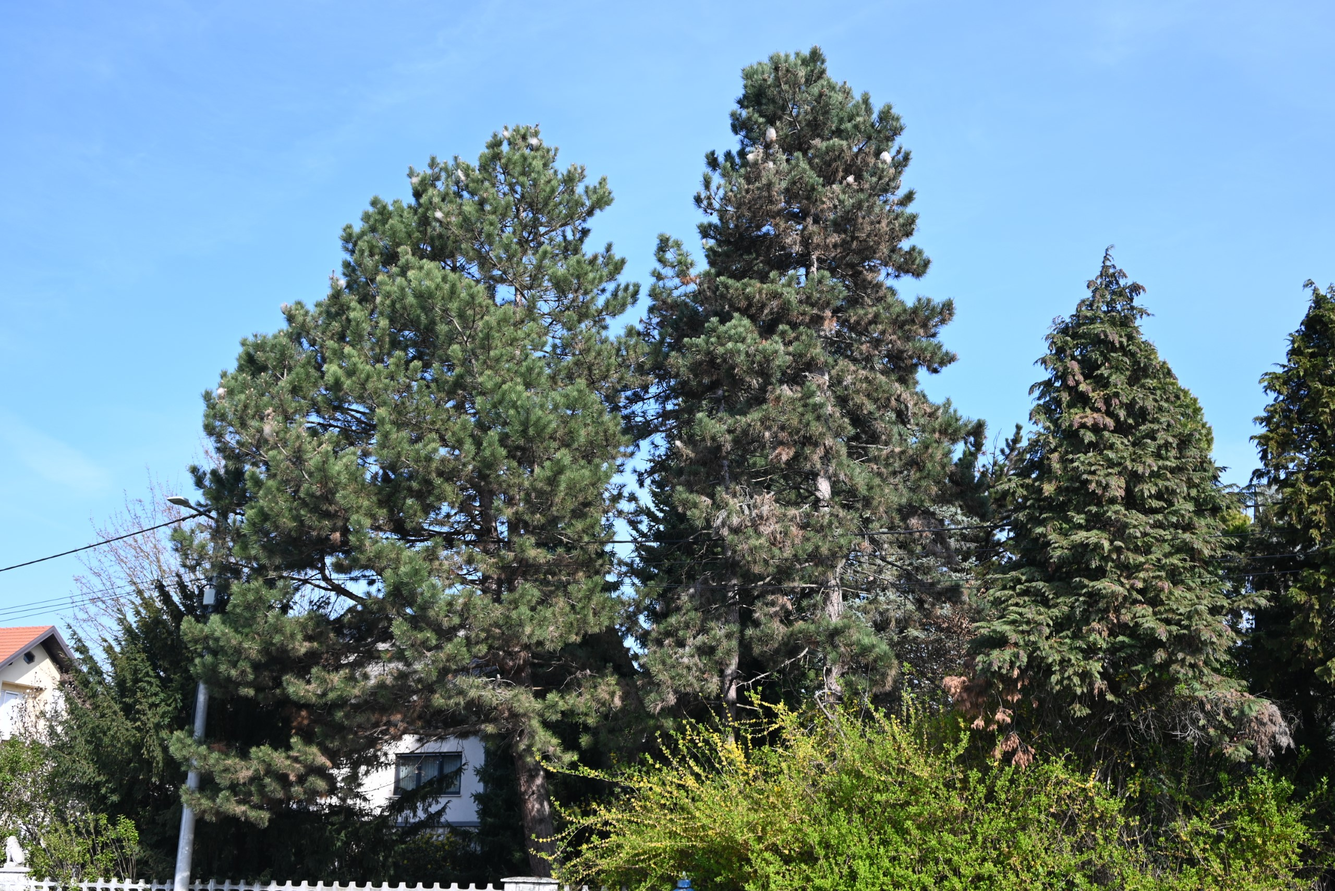thaumatopoea pityocampa jajno gnijezdo: (259, 417, 277, 440), (526, 133, 544, 150), (765, 127, 780, 143), (431, 208, 448, 222), (879, 149, 893, 164), (454, 169, 468, 183), (500, 127, 513, 140), (215, 386, 228, 398), (278, 302, 291, 314), (333, 277, 346, 289), (745, 152, 757, 164), (409, 174, 420, 187), (674, 440, 685, 452), (767, 158, 777, 171), (845, 174, 856, 185)
